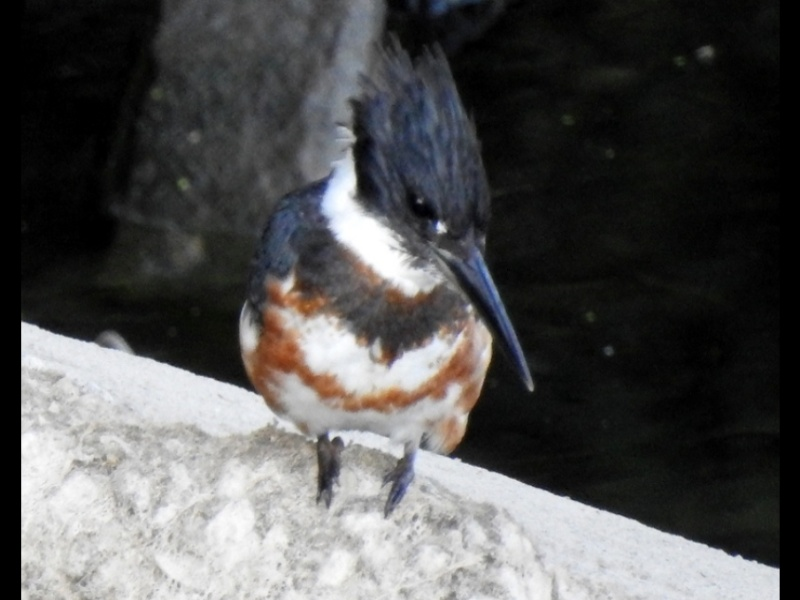kingfisher: (231, 39, 538, 523)
